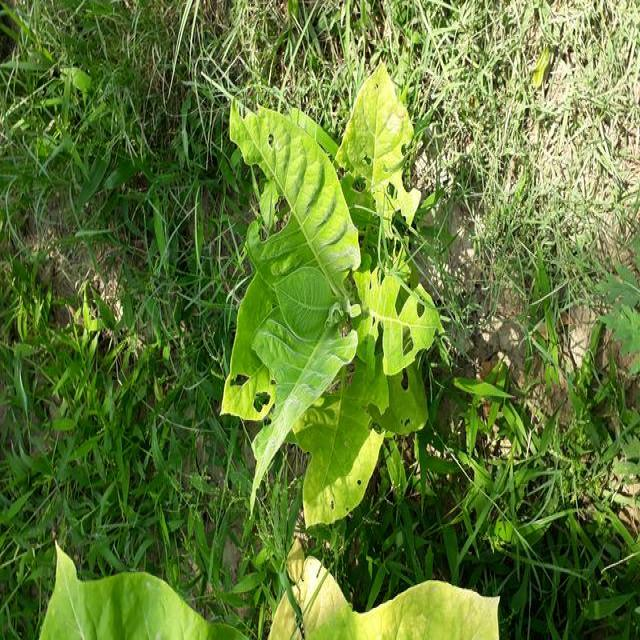crop: (234, 90, 428, 491), (286, 553, 505, 640), (28, 556, 231, 640)
